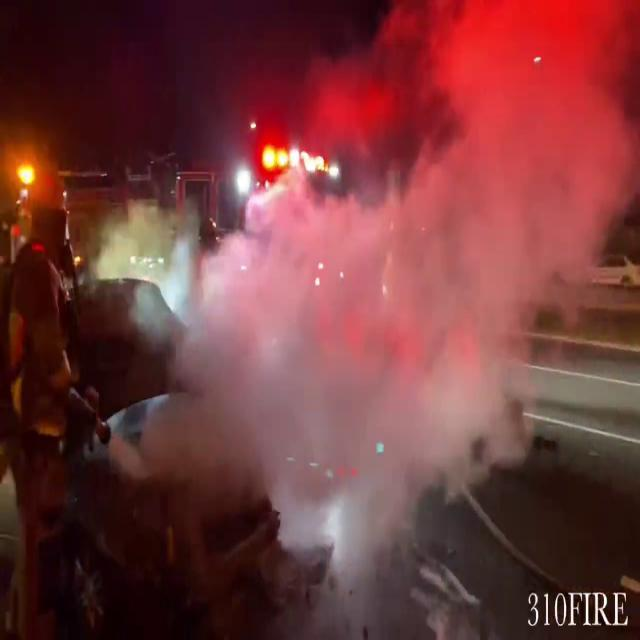Smoke: (333, 0, 640, 492), (122, 215, 451, 598)
